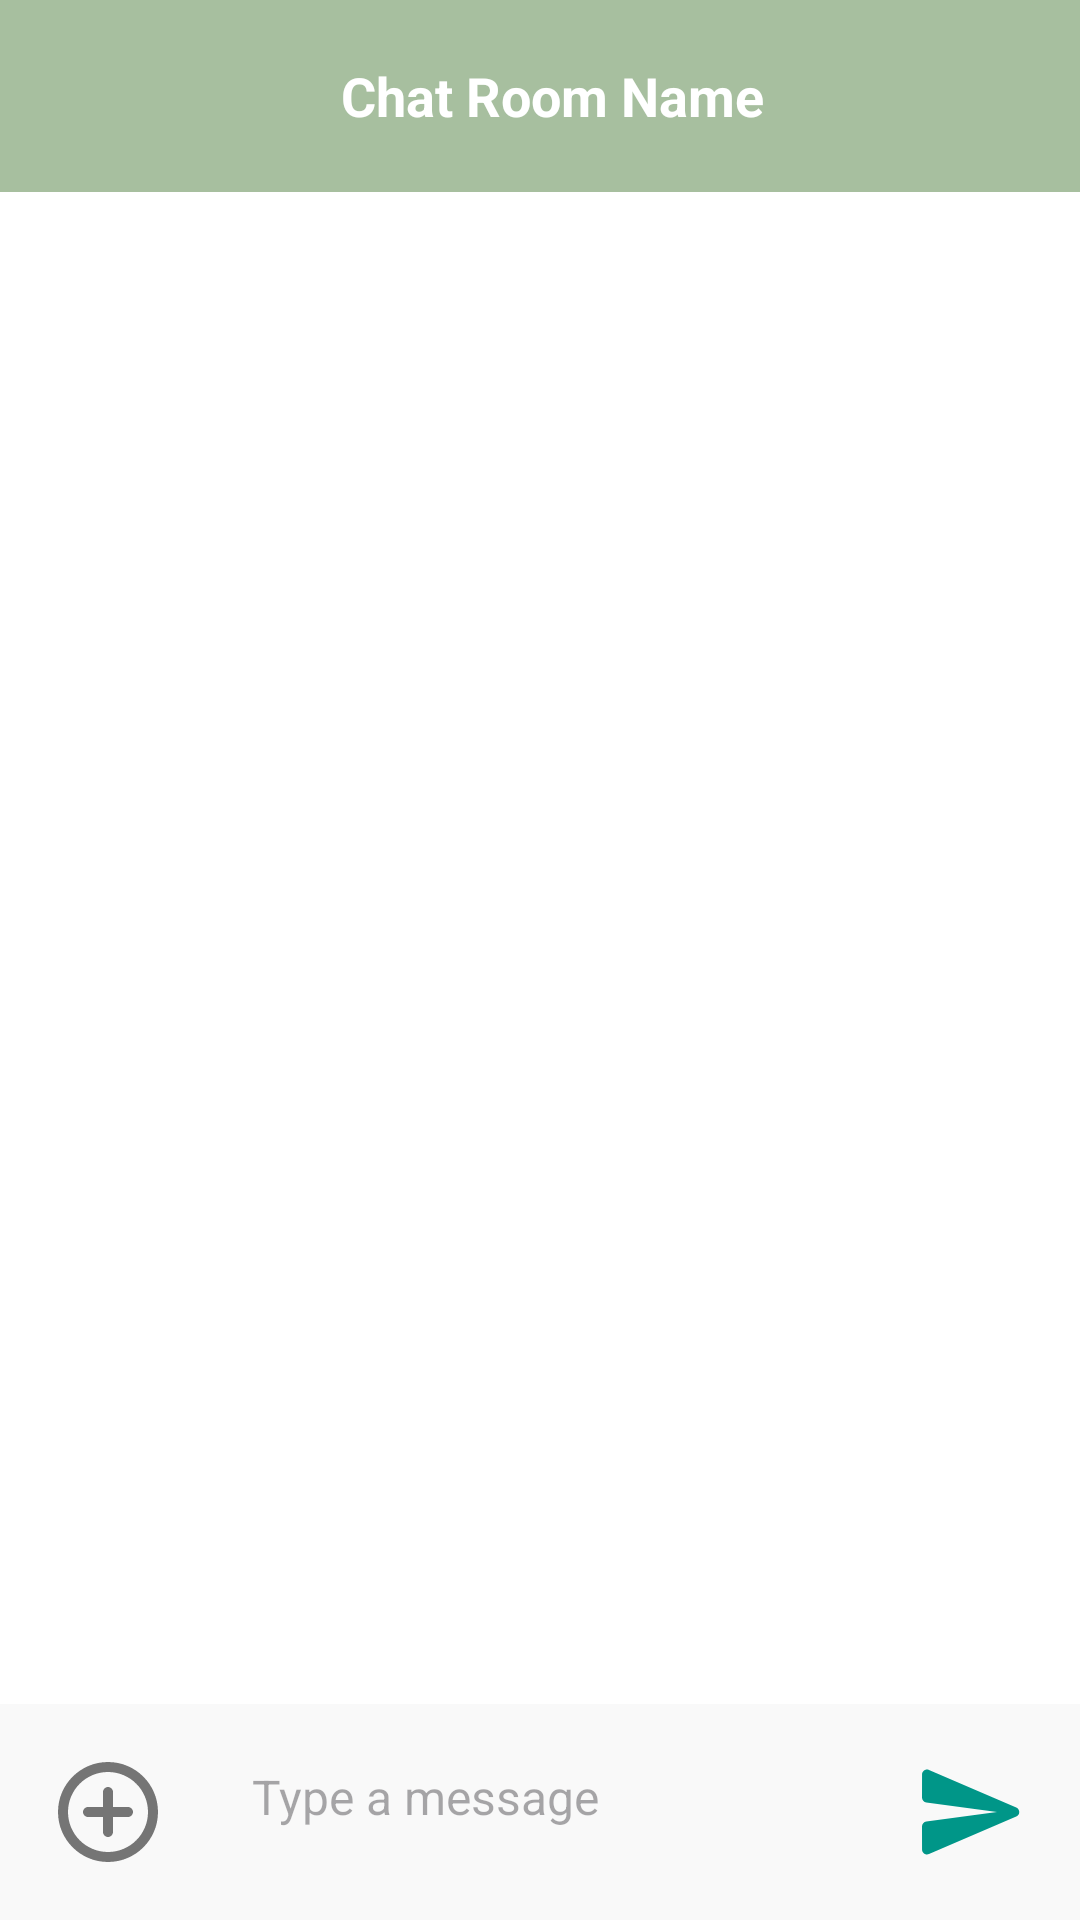

Locate icon controls on the screen. Image size 1080 × 1920, boxes as (x1, y1, x2, y2).
Add Image: (58, 1762, 158, 1862)
Send Message: (922, 1769, 1020, 1855)
